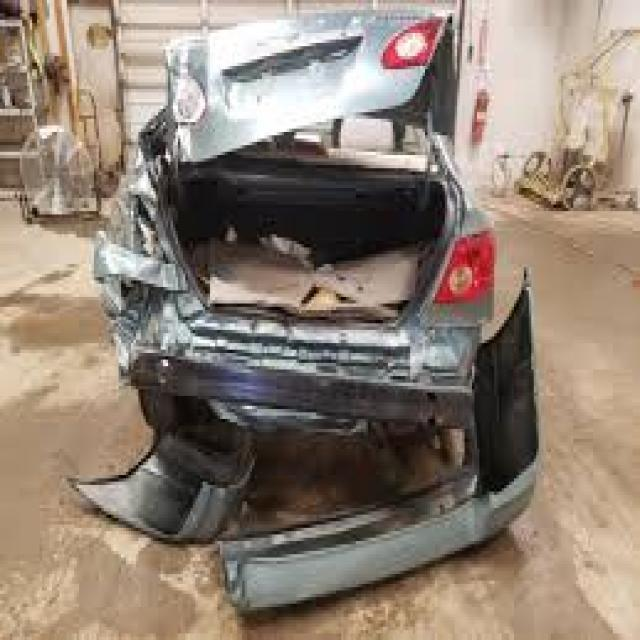damaged-trunk: (148, 101, 450, 324)
